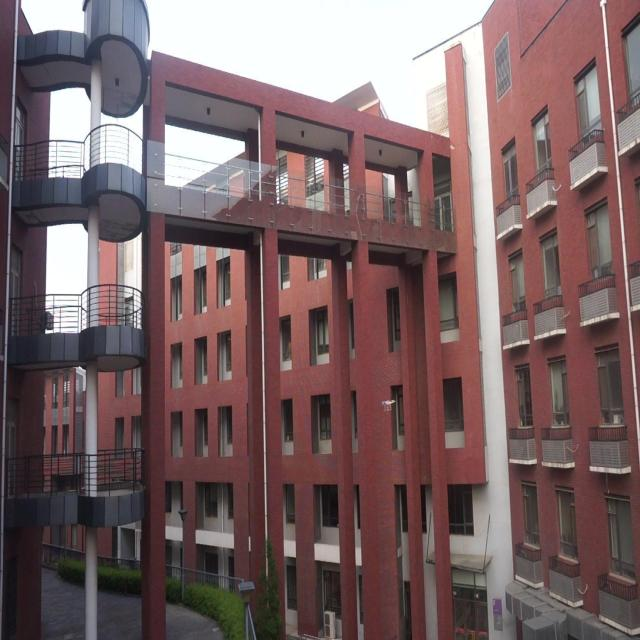drone: (382, 397, 396, 415)
